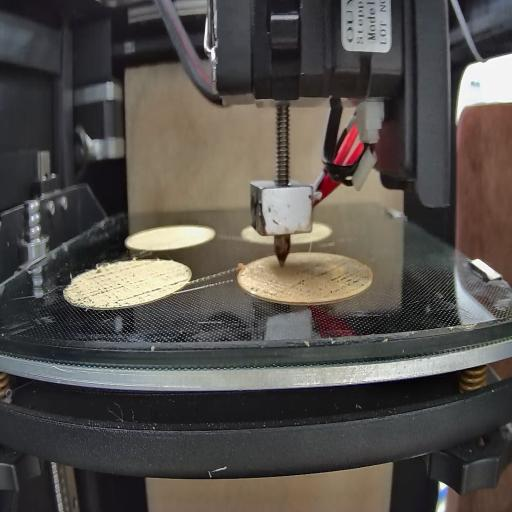under_extrusion: (66, 264, 164, 304), (293, 266, 370, 298), (248, 278, 284, 300), (169, 274, 189, 294)
